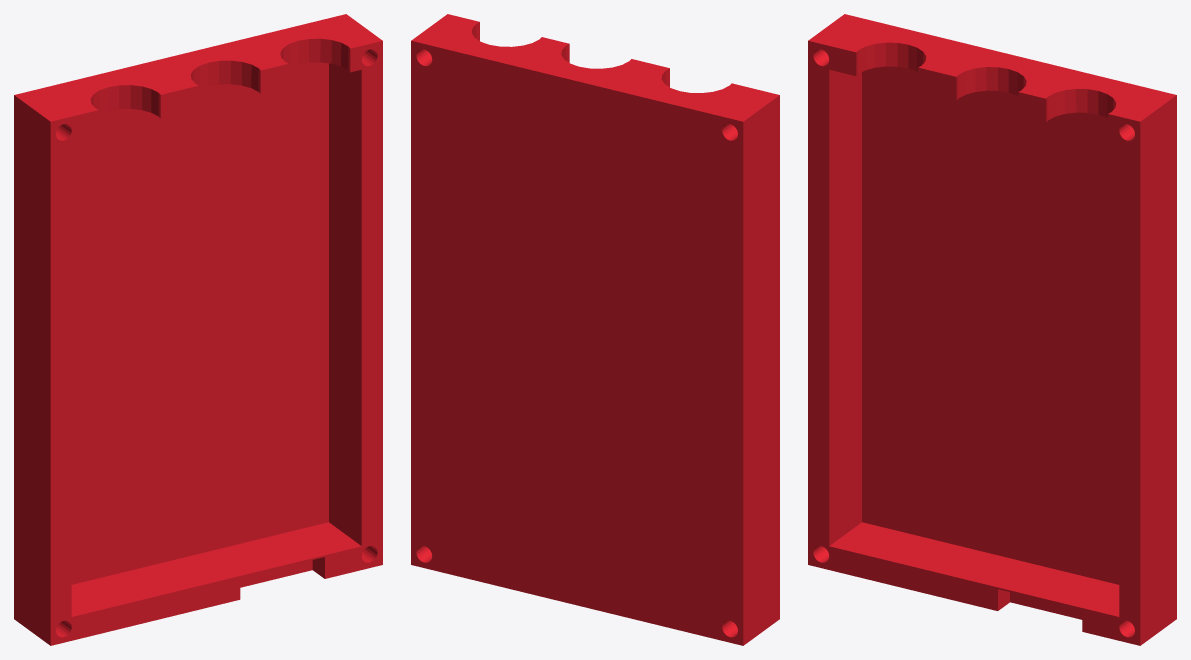
File: arduinocase-top.obj
3 renders of one model, left to right at view 1: azimuth 30°, elevation 25°; view 2: azimuth 150°, elevation 25°; view 3: azimuth 330°, elevation 25°, orthographic.
Parts seen in each view (by area): view 1: obj_0; view 2: obj_0; view 3: obj_0.
Boxes of the visible parts, x1,y1,x2,y2 form: obj_0: (14,14,382,645); obj_0: (411,14,779,645); obj_0: (808,14,1176,645).
Bounding box in the file's own units: 63 × 95 × 12.
